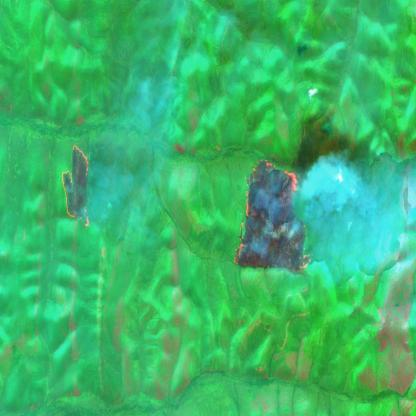fire: (232, 155, 312, 275), (61, 141, 94, 229)
